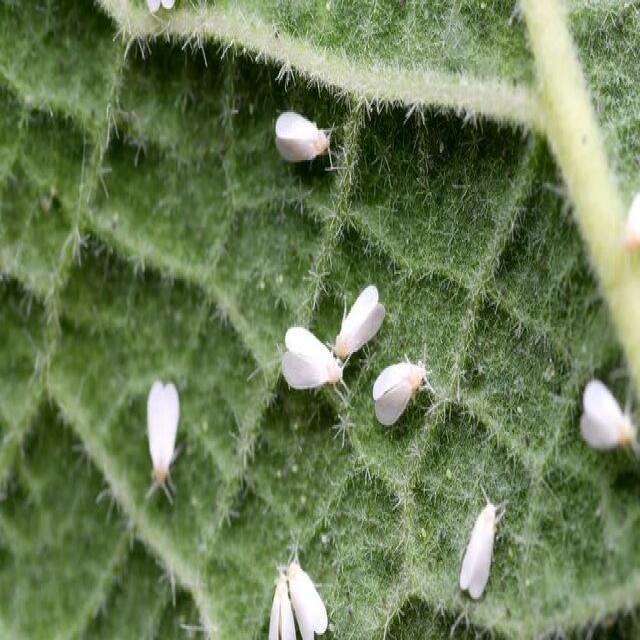Whitefly: (273, 270, 438, 440), (452, 466, 517, 610), (131, 368, 193, 514), (260, 530, 337, 640), (261, 100, 349, 182)
